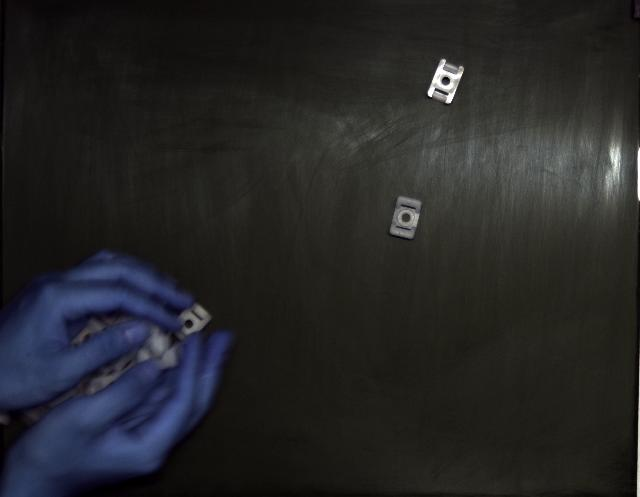first_side: (390, 196, 421, 239)
second_side: (428, 59, 464, 104)
